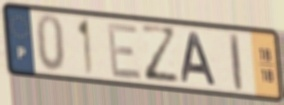0: (34, 12, 69, 76)
1: (76, 16, 94, 79)
A: (180, 31, 219, 88)
E: (105, 21, 144, 82)
I: (228, 31, 245, 94)
Z: (138, 22, 182, 85)
